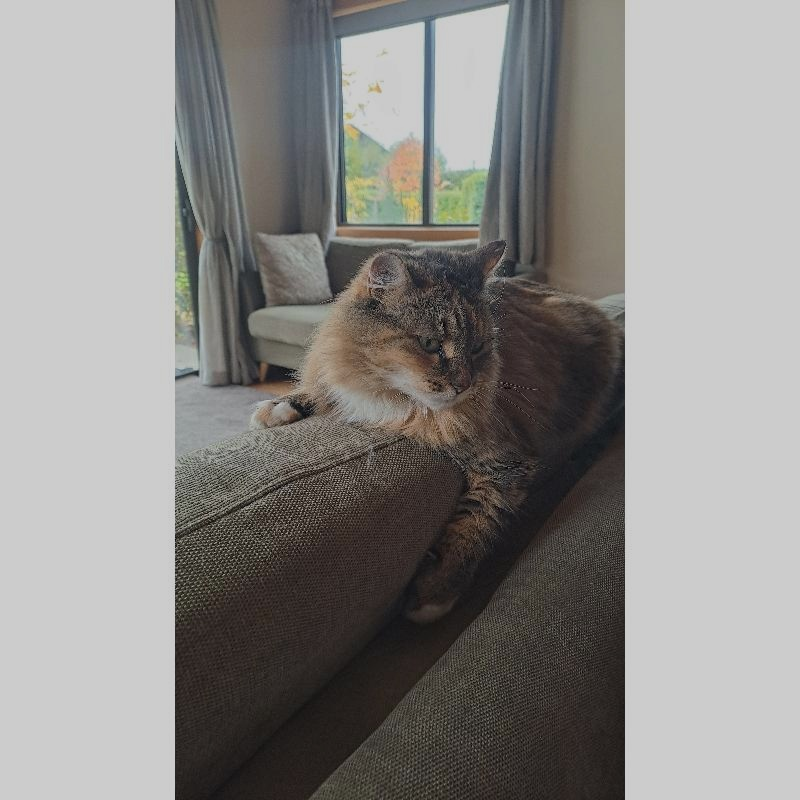yellow: (255, 238, 620, 614)
